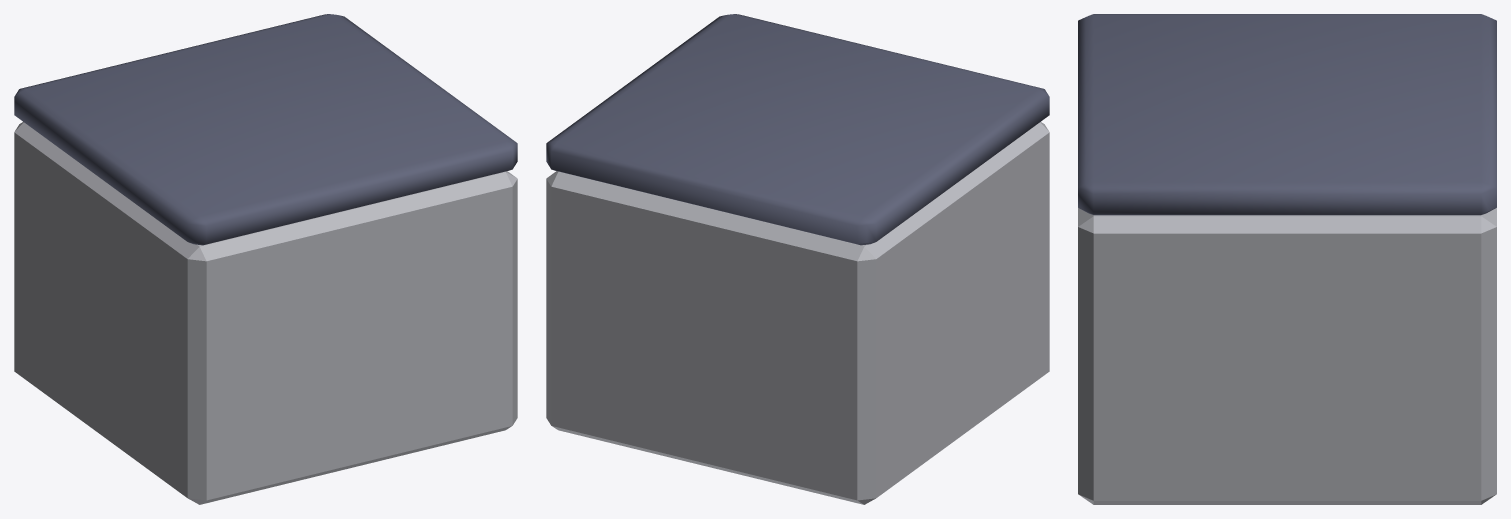
Rendered from Prop_sofab1.FBX.
The picture shows the model from 3 angles, left to right: view 1: azimuth 30°, elevation 25°; view 2: azimuth 150°, elevation 25°; view 3: azimuth 270°, elevation 25°; orthographic projection. The views are drawn at different scales.
Parts seen in each view (by area): view 1: Prop_sofab1; view 2: Prop_sofab1; view 3: Prop_sofab1.
Boxes of the visible parts, x1,y1,x2,y2 form: Prop_sofab1: (14, 14, 517, 504); Prop_sofab1: (546, 14, 1049, 504); Prop_sofab1: (1078, 14, 1496, 504).
Bounding box in the file's own units: 20.89 × 20.53 × 17.46.
